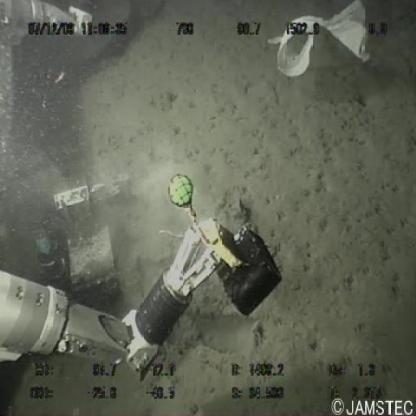Rov: (1, 1, 285, 386)
Rác: (263, 1, 375, 86)
